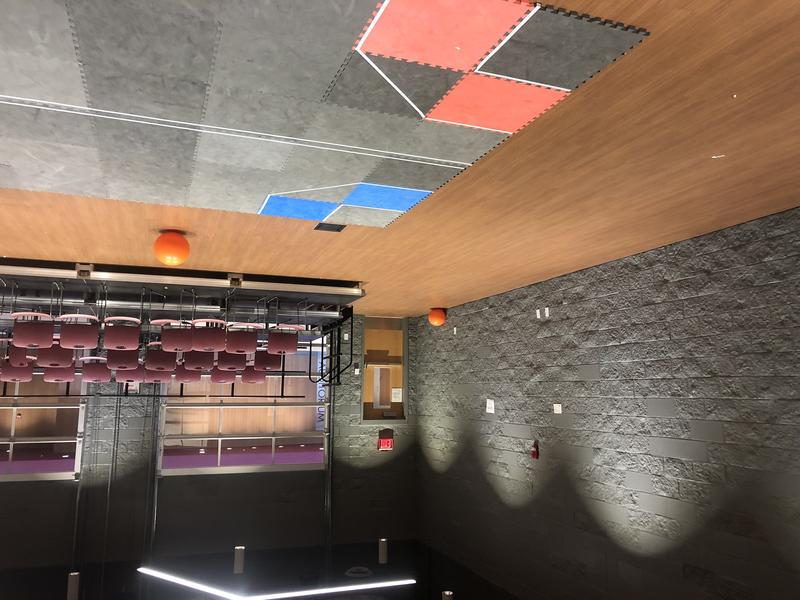ball: (154, 232, 189, 265), (428, 306, 446, 327)
